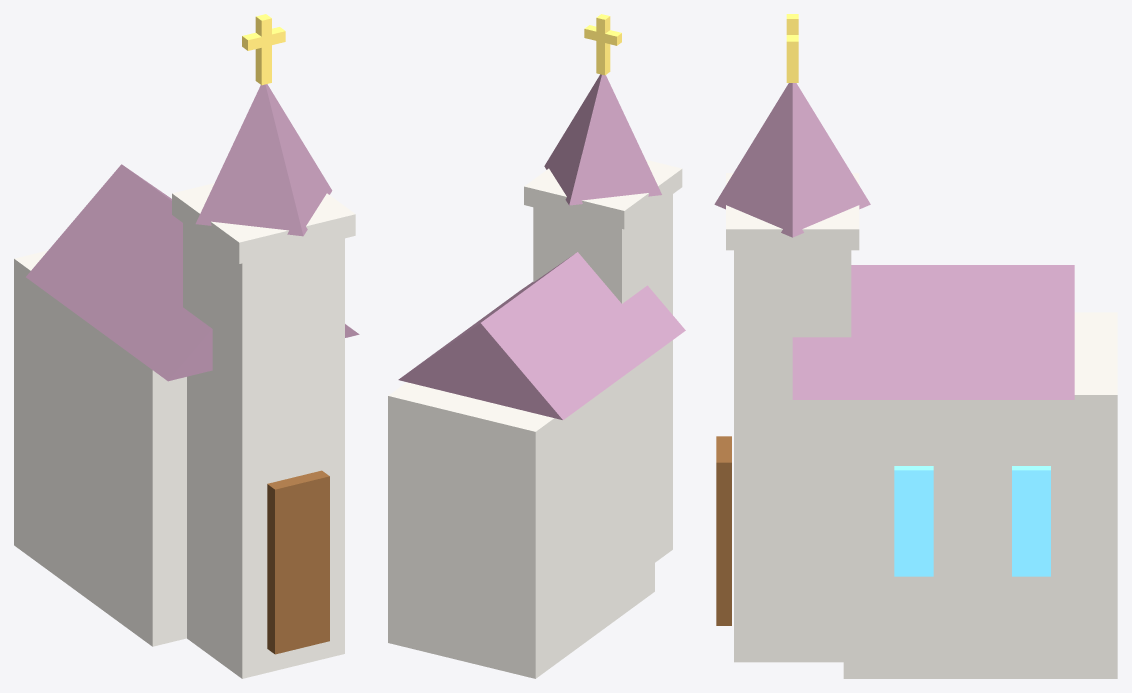
Rendered from church.glb.
3 views of the same model, side by side, from view 1: azimuth 30°, elevation 25°; view 2: azimuth 150°, elevation 25°; view 3: azimuth 270°, elevation 25° (orthographic). The views are drawn at different scales.
Visible parts, largest first — view 1: church; view 2: church; view 3: church.
Boxes of the visible parts, x1,y1,x2,y2 form: church: (14, 14, 359, 678); church: (388, 14, 685, 678); church: (714, 14, 1117, 678).
Size of the model in its own units: 0.56 by 1.75 by 1.03.
